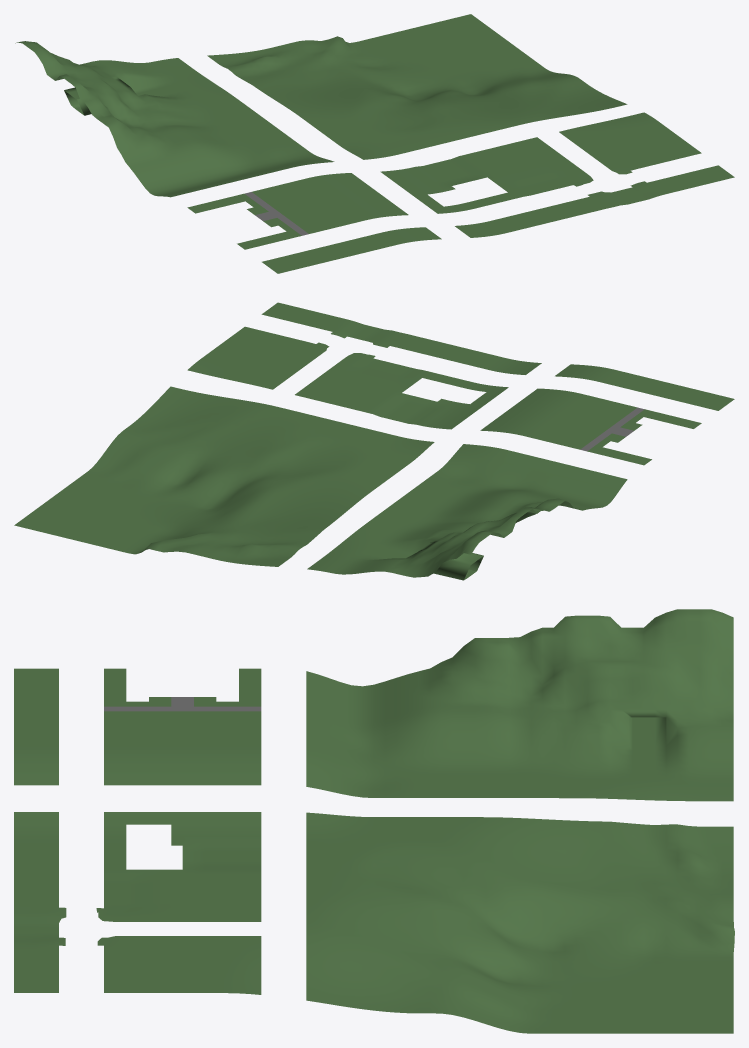
Rendered from BasePlane.fbx.
3 renders of one model, top to bottom at view 1: azimuth 30°, elevation 25°; view 2: azimuth 150°, elevation 25°; view 3: azimuth 270°, elevation 25°, orthographic. The views are drawn at different scales.
Parts seen in each view (by area): view 1: BasePlane01; view 2: BasePlane01; view 3: BasePlane01.
Part boxes in pixels (bbox=[...]): BasePlane01: bbox=[15, 14, 734, 273]; BasePlane01: bbox=[14, 302, 734, 580]; BasePlane01: bbox=[14, 609, 734, 1033].
Bounding box in the file's own units: 25600 × 4760 × 25642.
